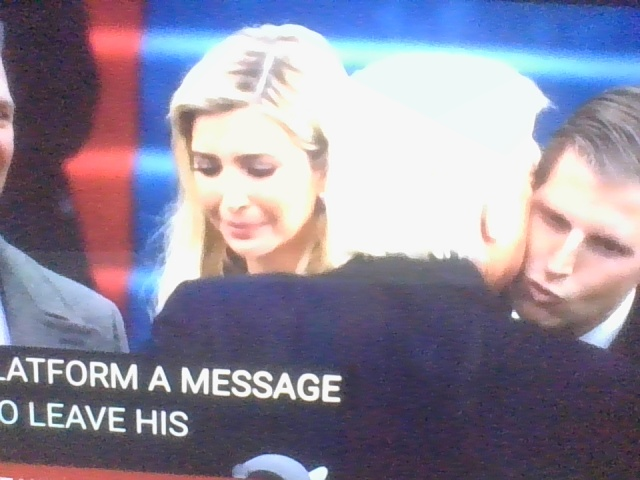fake: (177, 48, 336, 274), (509, 112, 640, 329)
